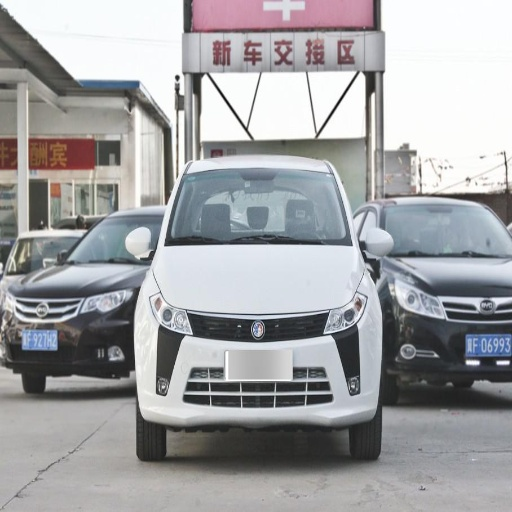front_bumper: (134, 265, 509, 427), (2, 297, 119, 375)
hood: (153, 246, 362, 314), (12, 264, 122, 296)
